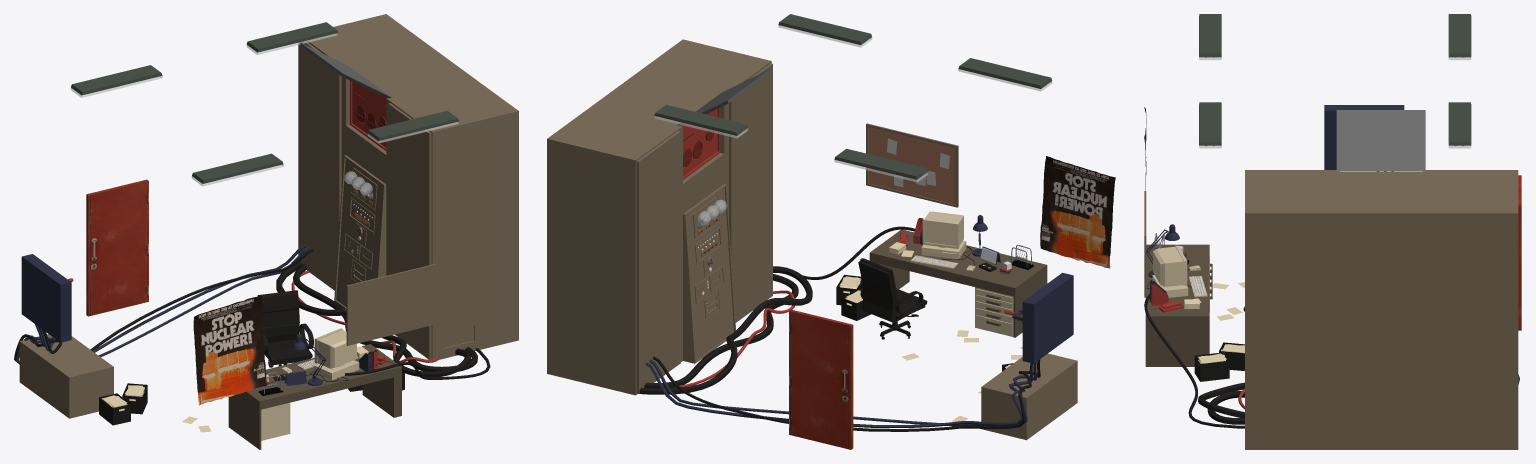
3 views of the same model, side by side, from view 1: azimuth 30°, elevation 25°; view 2: azimuth 150°, elevation 25°; view 3: azimuth 270°, elevation 25° (orthographic). The views are drawn at different scales.
Visible parts, largest first — view 1: Cube.006, MetalDoor3, Poster_Crumpled, Light2, Cube.007, Cube.010, Cube.012, NurbsPath.001, Cube.009, Cube.020, BézierCurve.001, Cube.030 (+4 smaller); view 2: Cube.006, MetalDoor3, Poster_Crumpled, Light2, Cube.010, Cube.012, Cube.007, NurbsPath.001, BézierCurve.001, Cube.009, Cube.020, Cube.008 (+4 smaller); view 3: Cube.006, Cube.094, Cube.012, Light2, NurbsPath.001, Cube.030, Cube.009, Box01_Cube.003, MetalDoor3, PaperStack.005_Cube.027.
Part boxes in pixels (x1,y1,x2,y2): Cube.006: (298, 14, 518, 359); MetalDoor3: (86, 179, 148, 316); Poster_Crumpled: (193, 296, 266, 405); Light2: (71, 22, 459, 186); Cube.007: (346, 263, 436, 345); Cube.010: (19, 334, 113, 418); Cube.012: (228, 344, 401, 449); NurbsPath.001: (276, 261, 490, 381); Cube.009: (21, 254, 71, 342); Cube.020: (257, 290, 313, 367); BézierCurve.001: (14, 244, 313, 364); Cube.030: (314, 328, 356, 368); Cube.006: (547, 39, 772, 395); MetalDoor3: (789, 309, 853, 449); Poster_Crumpled: (1040, 156, 1115, 268); Light2: (654, 14, 1052, 182); Cube.010: (981, 353, 1077, 440); Cube.012: (869, 229, 1047, 337); Cube.007: (866, 123, 958, 207); NurbsPath.001: (639, 226, 974, 394); BézierCurve.001: (645, 356, 1040, 431); Cube.009: (1022, 272, 1073, 363); Cube.020: (858, 258, 927, 339); Cube.008: (975, 287, 1013, 336); Cube.006: (1245, 170, 1518, 449); Cube.094: (1336, 110, 1425, 171); Cube.012: (1145, 244, 1209, 366); Light2: (1199, 14, 1471, 148); NurbsPath.001: (1144, 269, 1244, 428); Cube.030: (1153, 245, 1187, 286); Cube.009: (1324, 105, 1404, 169); Box01_Cube.003: (1194, 342, 1244, 381); MetalDoor3: (1518, 175, 1521, 330); PaperStack.005_Cube.027: (1198, 344, 1244, 363).
Bounding box in the file's own units: 1182 × 1565 × 954.
